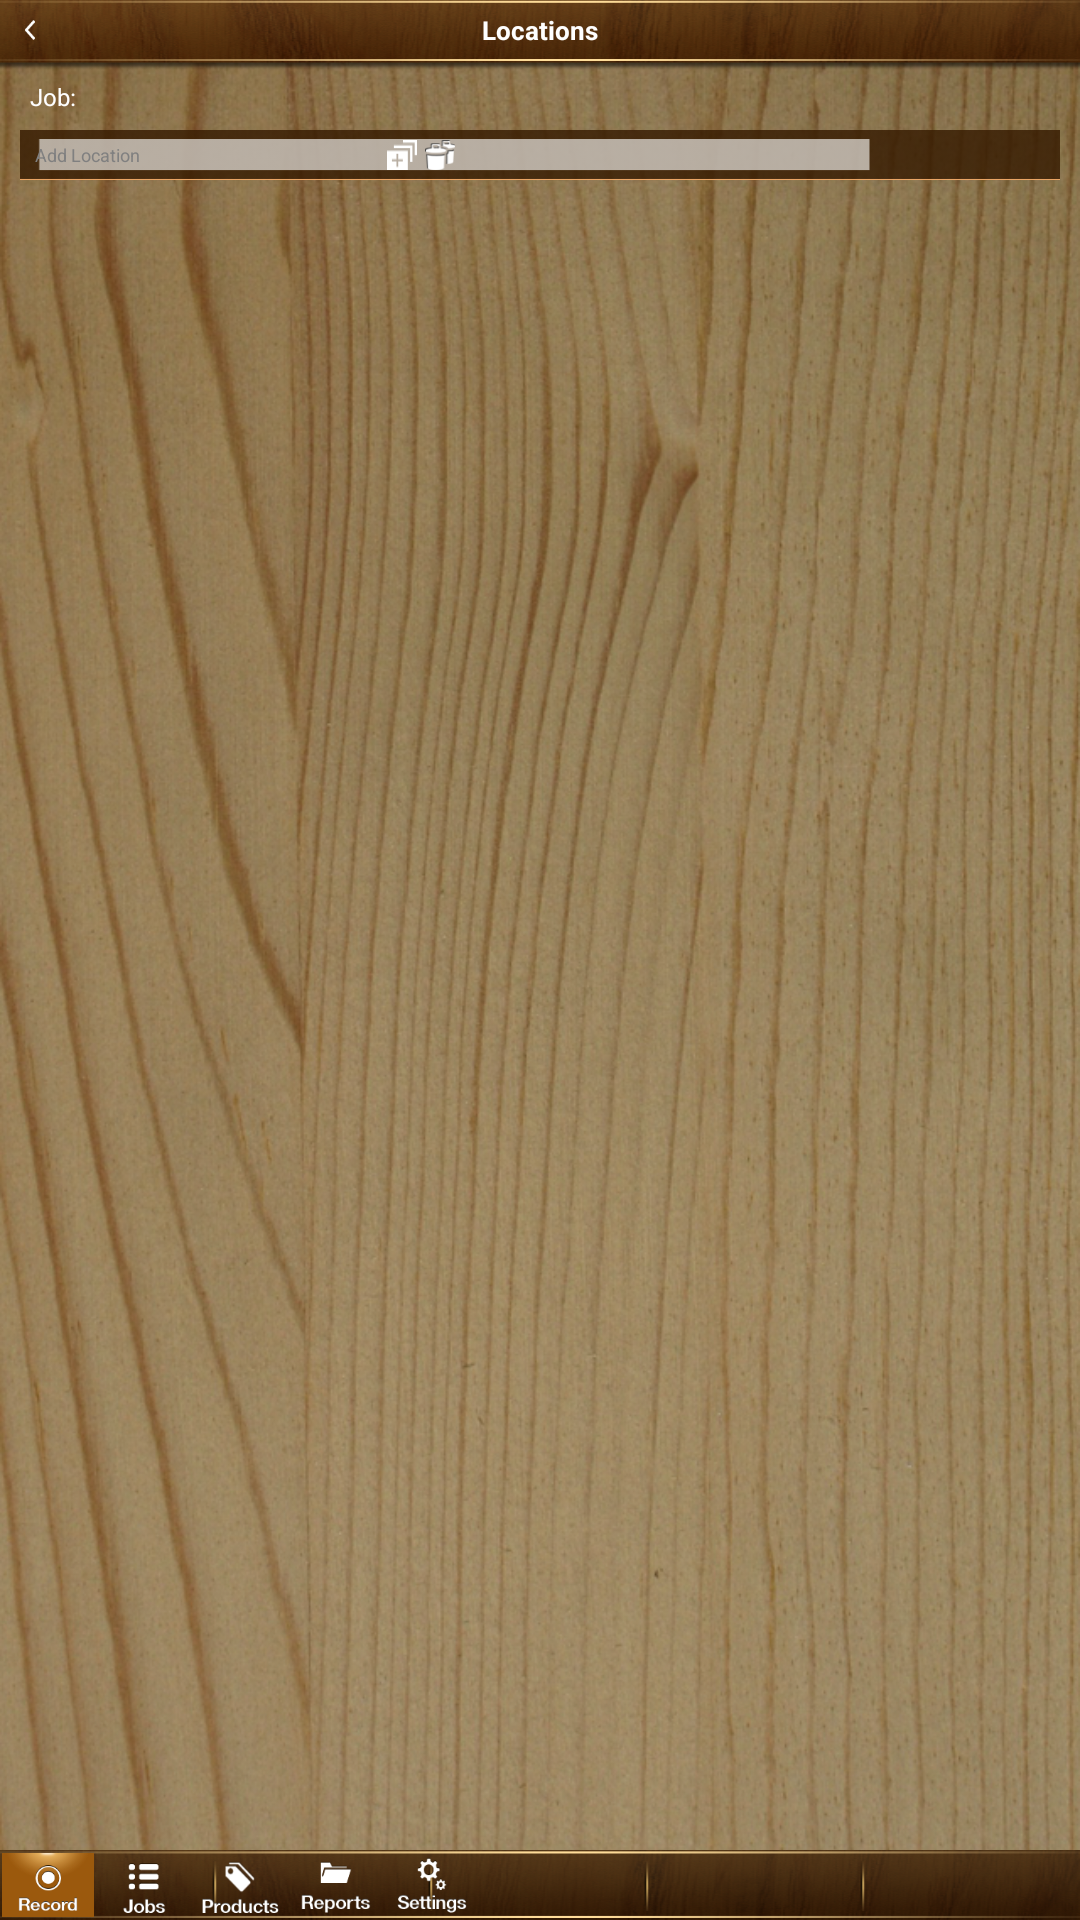

Named icons in this screenshot (1080*1920) and their centers, (x,y):
job add: (402,155)
job delete: (440,155)
